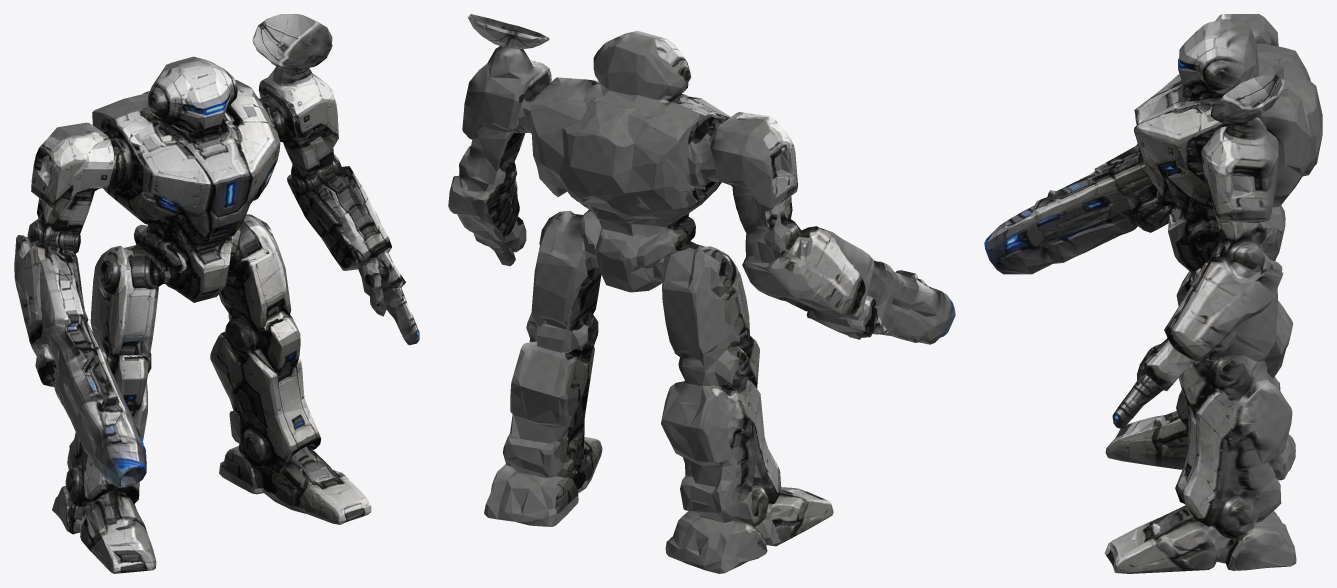
The model's file is commander_lod1.glb.
The picture shows the model from 3 angles, left to right: view 1: azimuth 30°, elevation 25°; view 2: azimuth 150°, elevation 25°; view 3: azimuth 270°, elevation 25°; orthographic projection. The views are drawn at different scales.
Parts seen in each view (by area): view 1: AxiomCommander; view 2: AxiomCommander; view 3: AxiomCommander.
Boxes of the visible parts, x1=… form: AxiomCommander: x1=14, y1=14, x2=419, y2=573; AxiomCommander: x1=448, y1=14, x2=955, y2=573; AxiomCommander: x1=984, y1=14, x2=1322, y2=573.
Size of the model in its own units: 1.68 by 1.97 by 1.25.
1 material, 1 textured.
